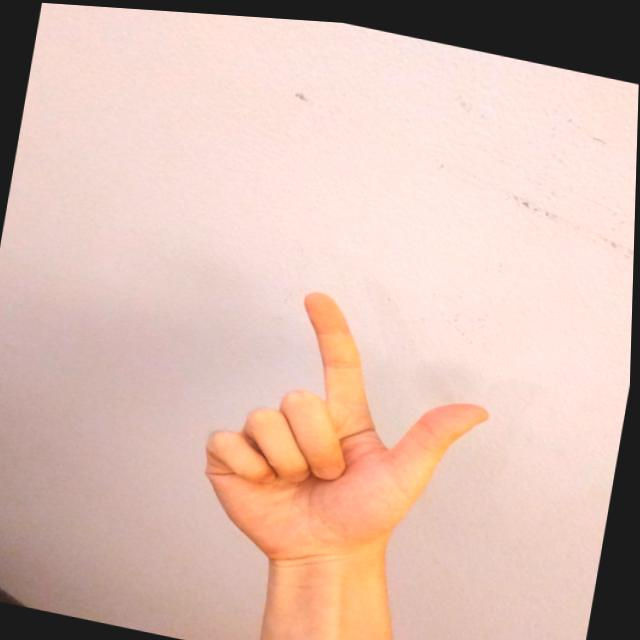L: (183, 260, 519, 604)
